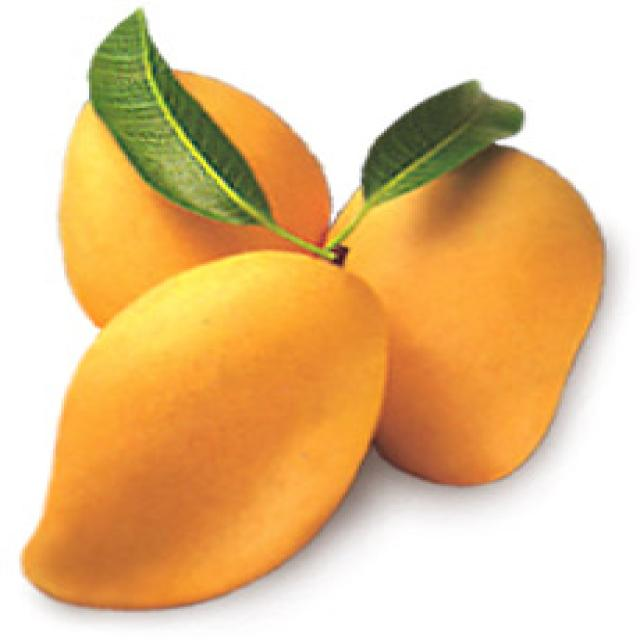mango: (19, 242, 382, 615), (324, 121, 608, 488), (40, 59, 348, 325)
